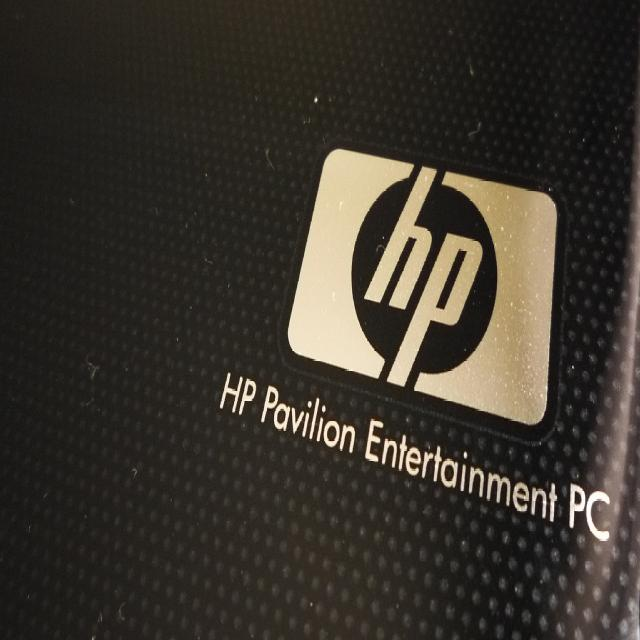HP: (285, 137, 566, 431)
